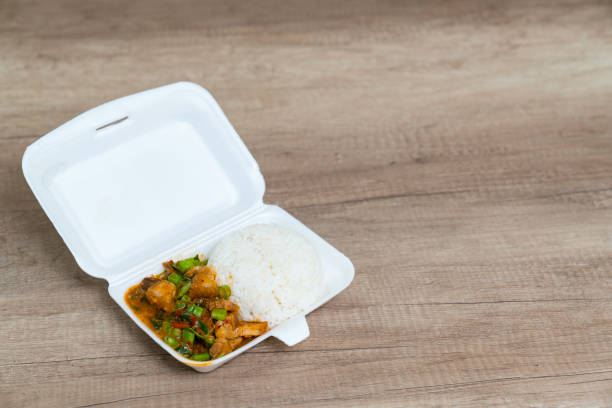styrofoam: (10, 76, 360, 371)
